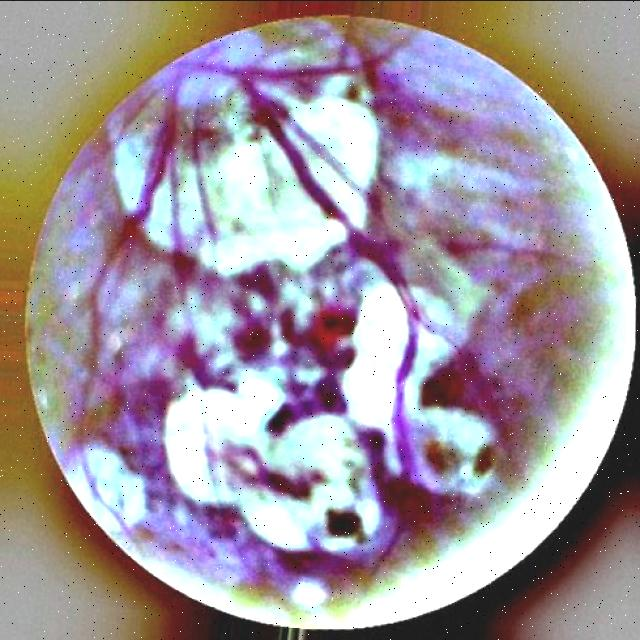Macula: (296, 296, 364, 377)
Nerves: (240, 90, 414, 389), (81, 106, 183, 422), (238, 32, 419, 84)
Optic Disk: (110, 27, 372, 255)
